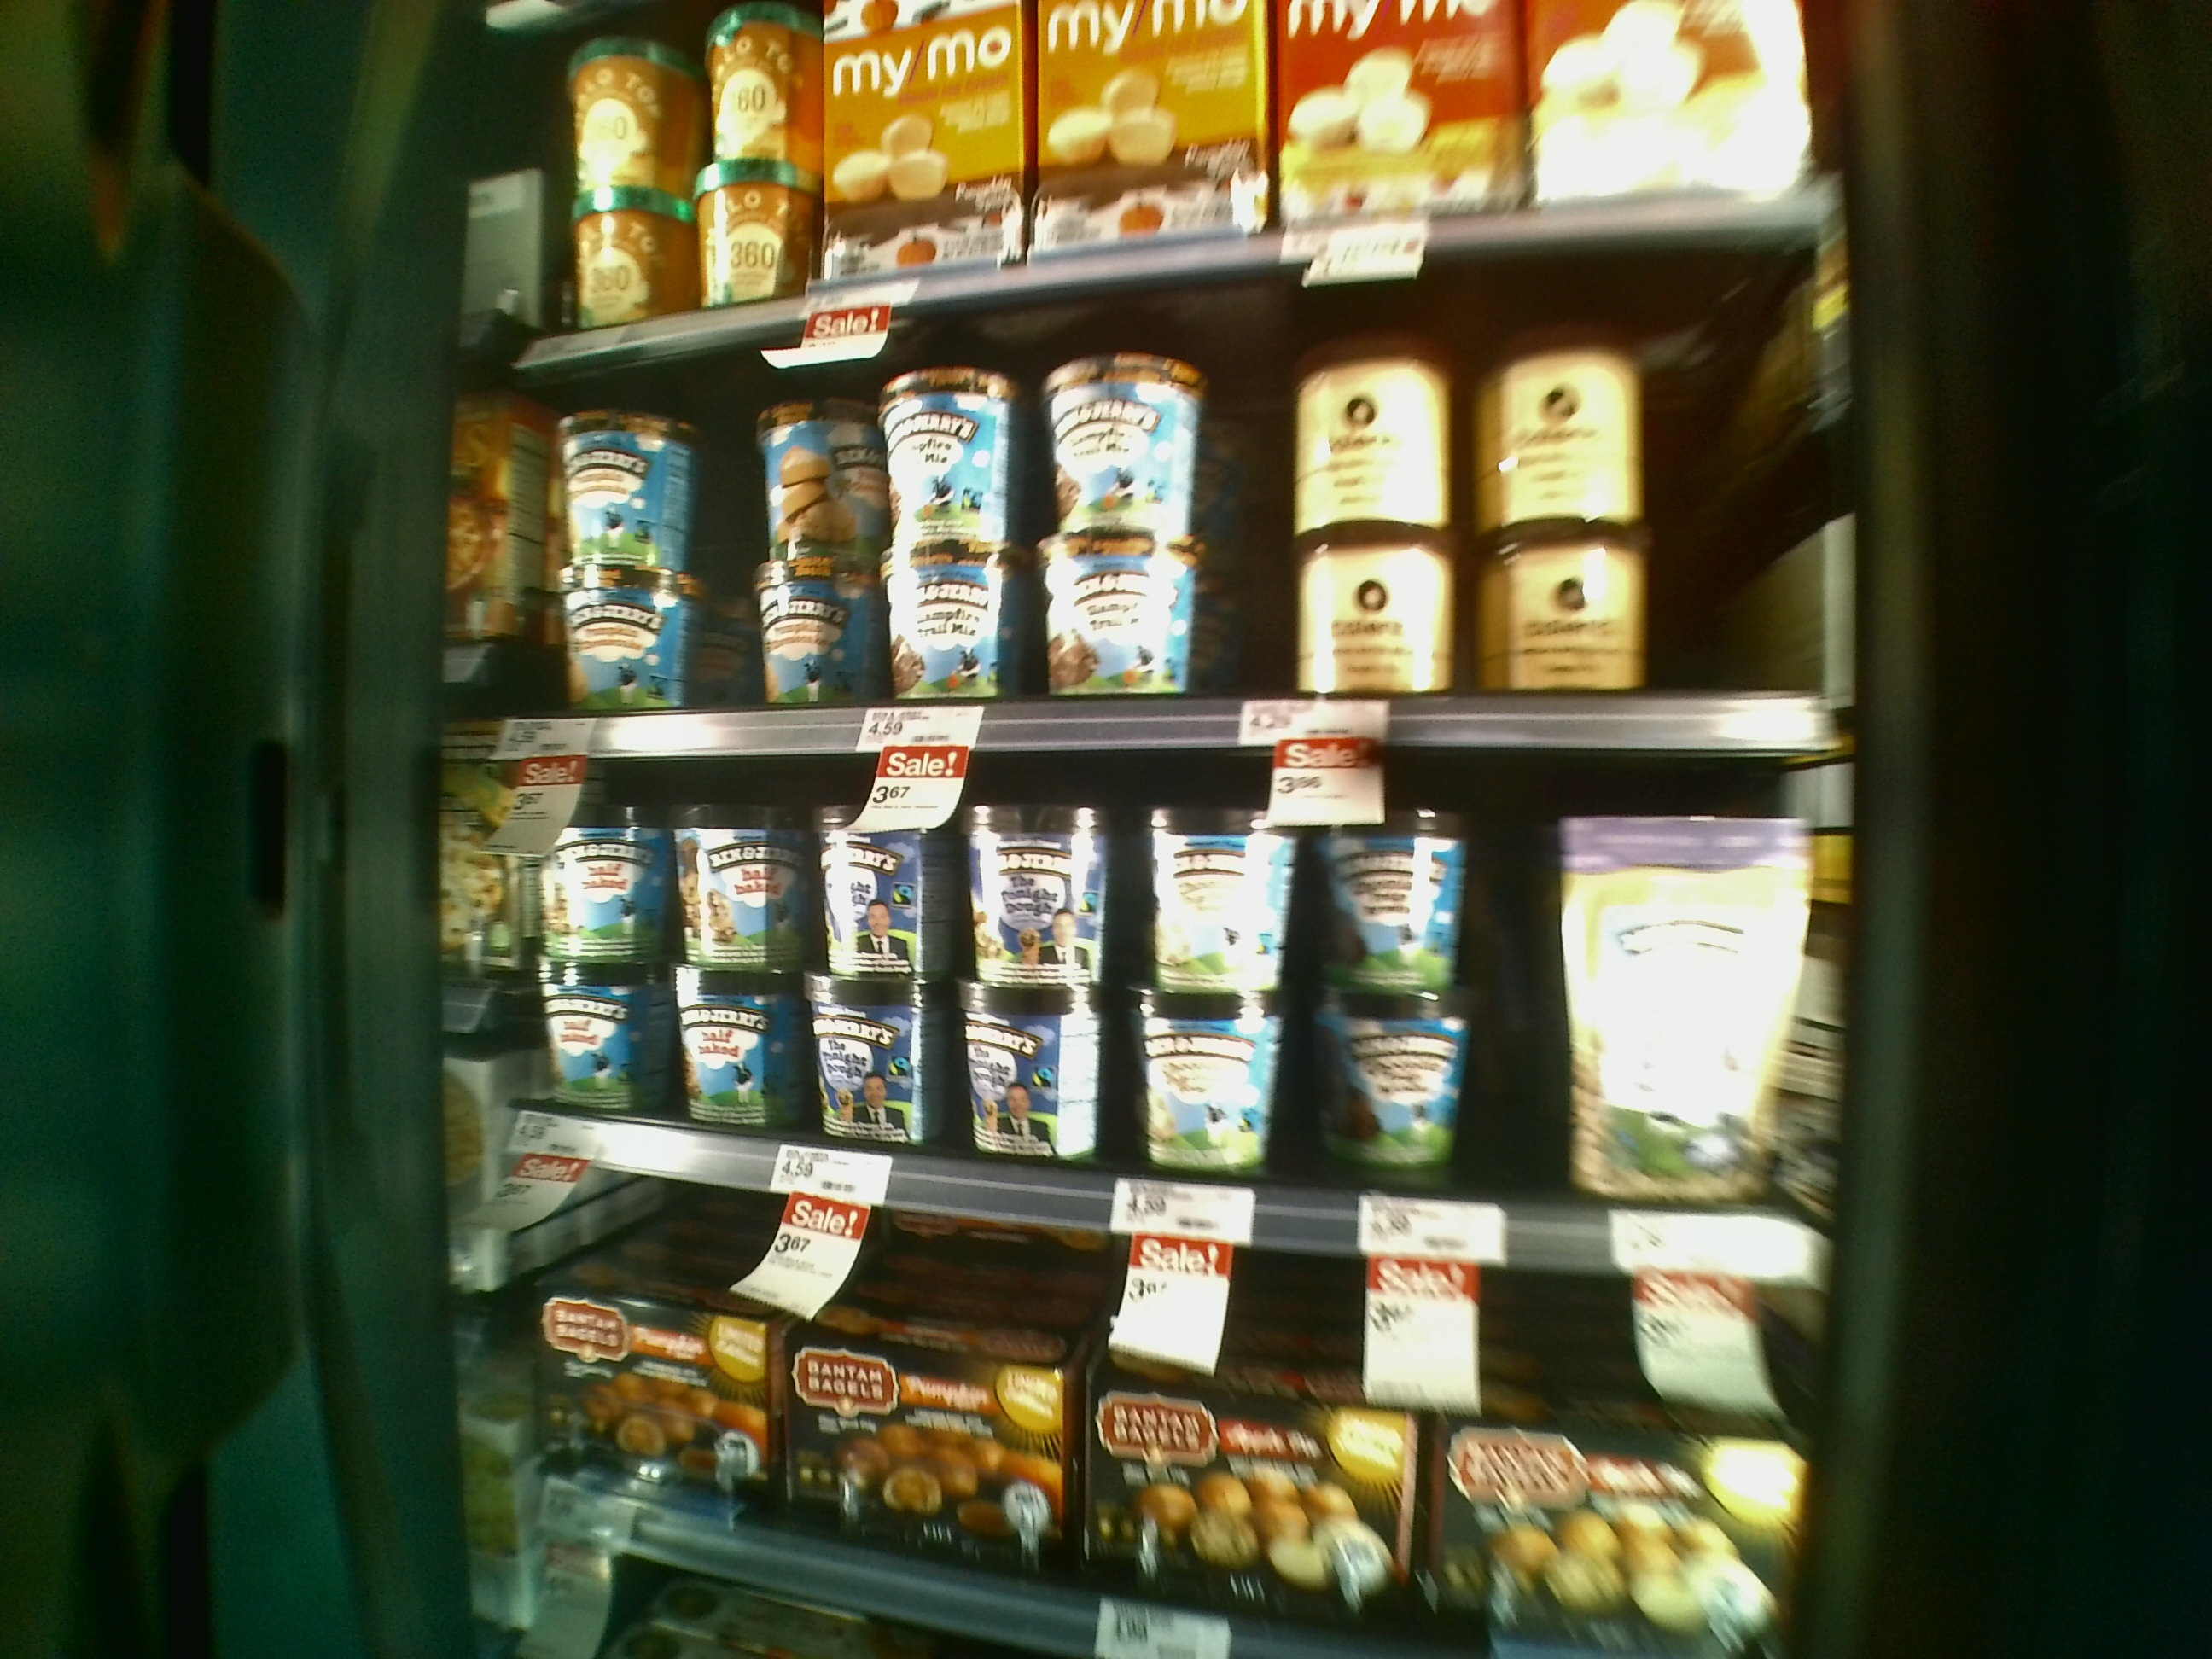shelf: (489, 732, 1811, 1281), (516, 295, 1838, 763)
